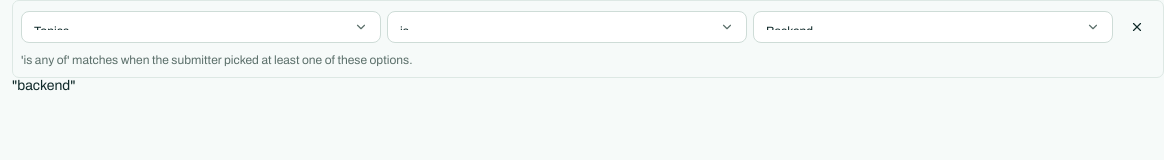
Test: ConditionRow value arity › carries a multiselect's choice into the set form instead of resetting it
Select "is any of" in the dropdown named "Operator": (567, 27) left=387, top=11, right=747, bottom=43
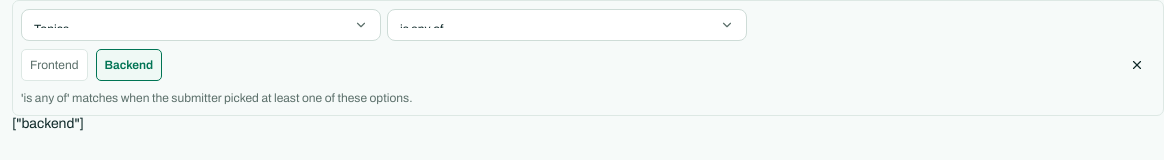
Check: the text with test id "value" reads "[\"backend\"]", box left=12, top=116, right=84, bottom=131
